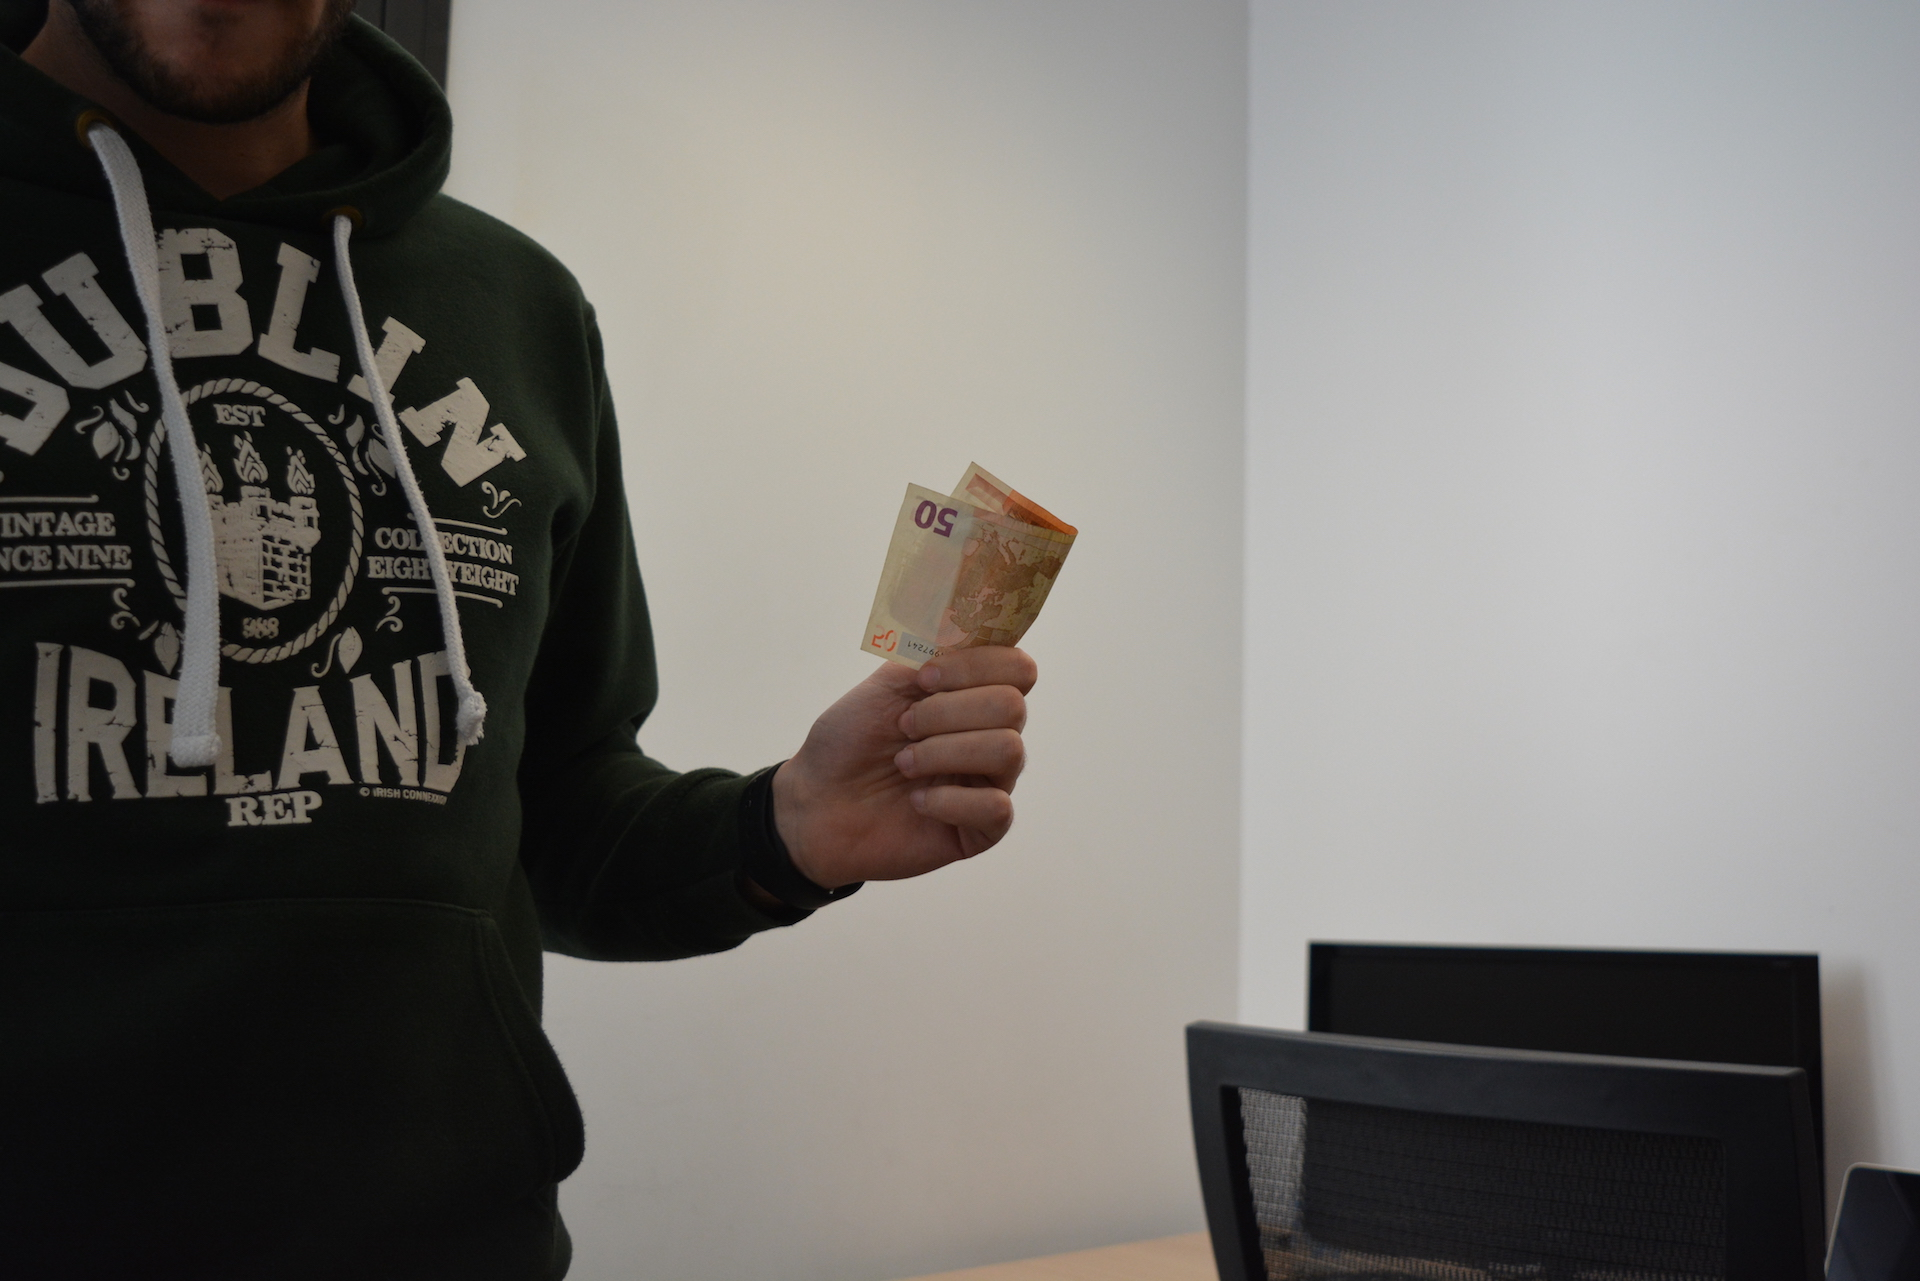billete: (859, 459, 1079, 673)
